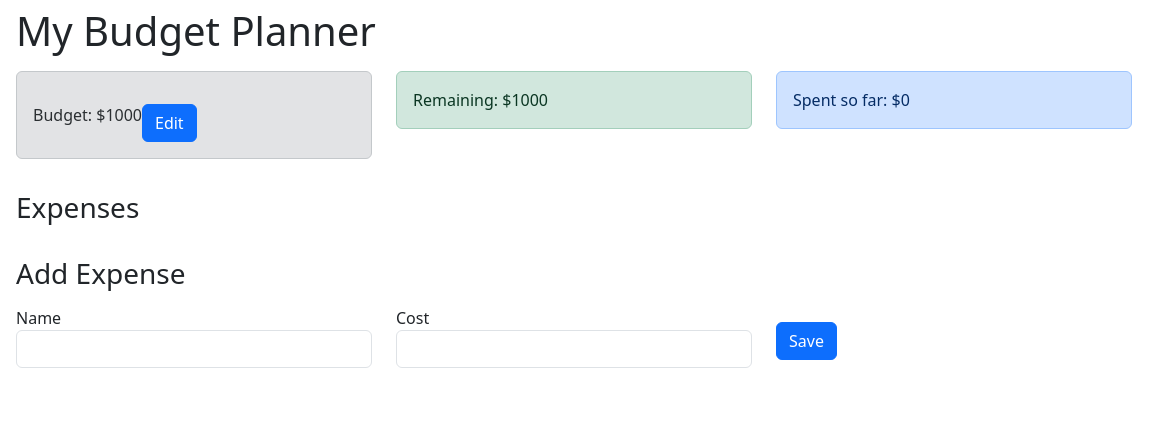
Test: Create Expense › renders create expense form and adds a new expense
The width and height of the screenshot is (1149, 433).
Check: the text "Remaining: $1000" is shown, box [413,89,548,111]
Check: the text "Spent so far: $0" is shown, box [793,89,910,111]
Type "My new expense" into the field labelled "Name" at (194, 349), box [16,330,372,368]
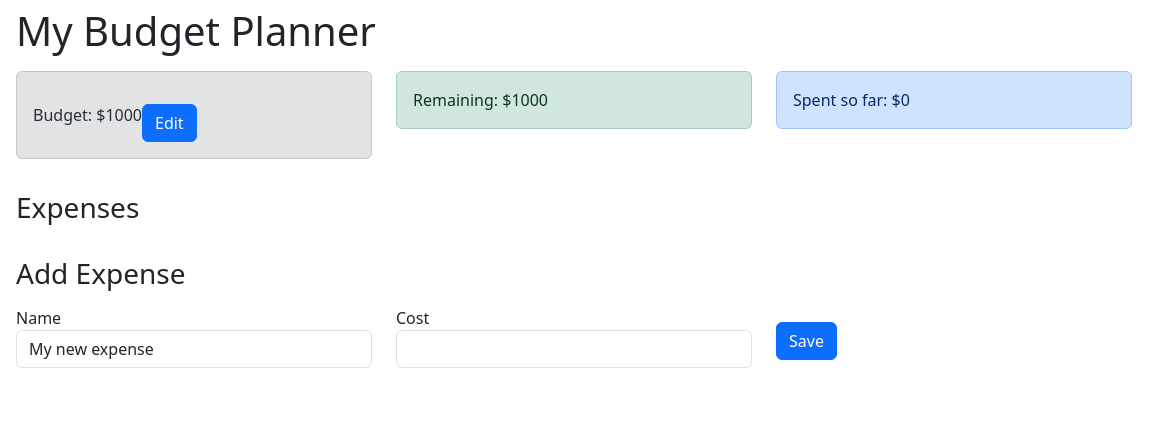
Type "10" into the field labelled "Cost" at (574, 349), box [396,330,752,368]
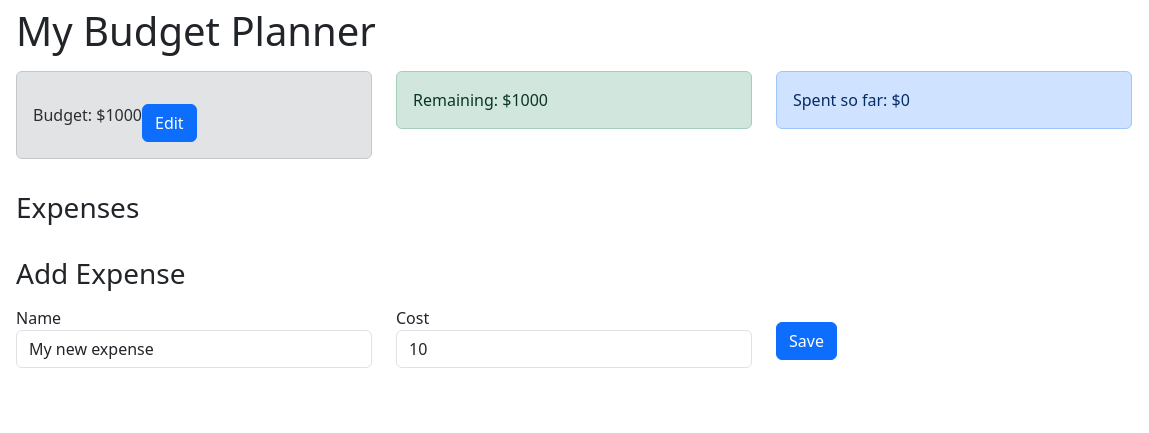
Click the button "Save" at (806, 341), box [776,322,837,360]
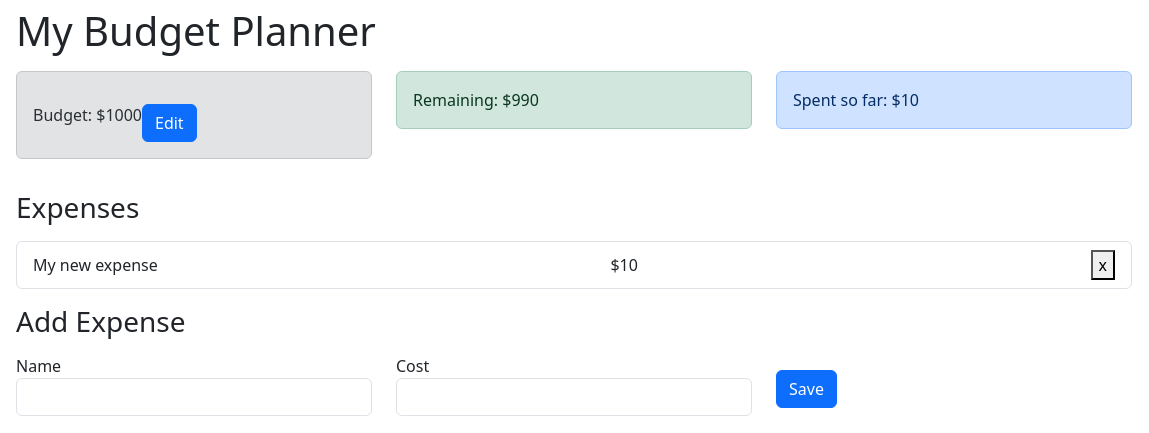
Check: the text "My new expense" is shown, box [33,253,158,277]
Check: the text "Remaining: $990" is shown, box [413,89,539,111]
Check: the text "Spent so far: $10" is shown, box [793,89,919,111]
